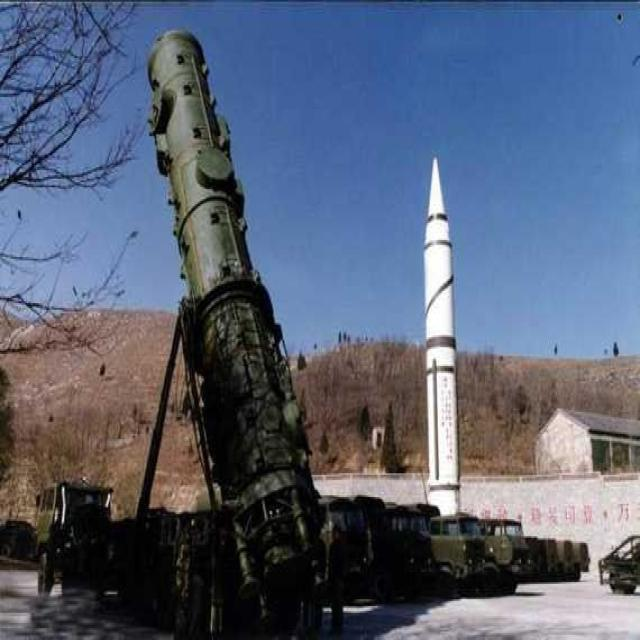missile: (419, 146, 462, 518)
